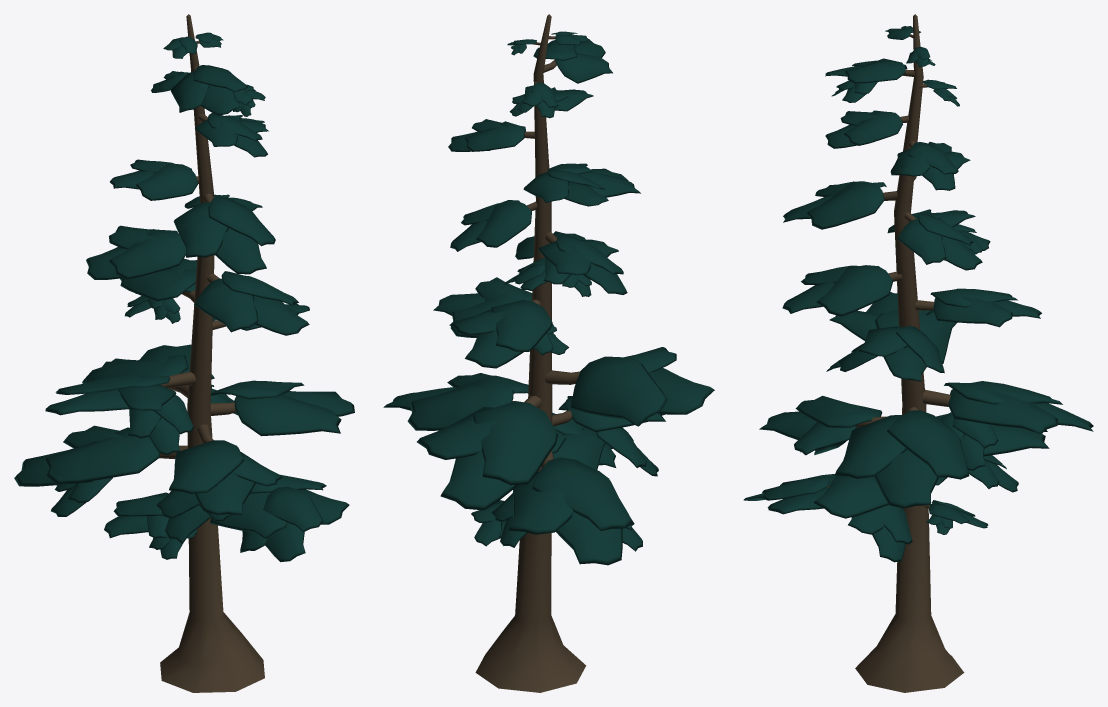
File: Tree2.fbx
The picture shows the model from 3 angles, left to right: view 1: azimuth 30°, elevation 25°; view 2: azimuth 150°, elevation 25°; view 3: azimuth 270°, elevation 25°; orthographic projection. The views are drawn at different scales.
Visible parts, largest first — view 1: Tree2; view 2: Tree2; view 3: Tree2.
Part boxes in pixels (box(x1,y1,x2,y2)): Tree2: box(14, 14, 354, 692); Tree2: box(383, 14, 714, 692); Tree2: box(743, 14, 1093, 692).
Size of the model in its own units: 1944 by 3981 by 1956.
